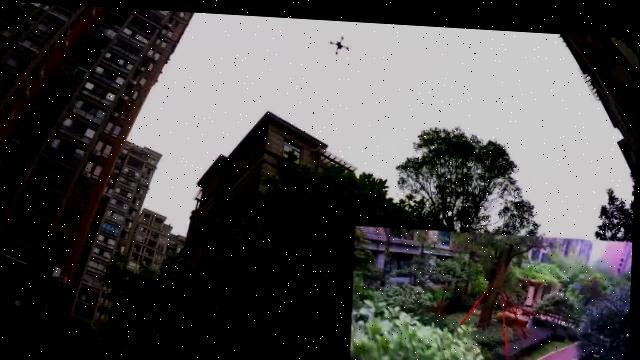drone: (307, 18, 350, 47)
